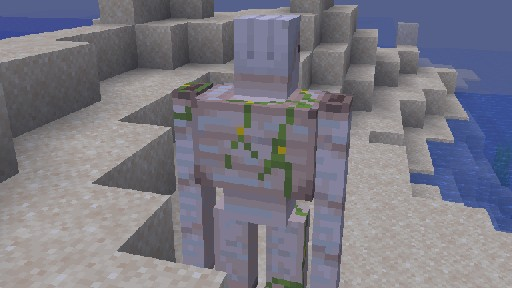iron_golem: (171, 14, 353, 288)
